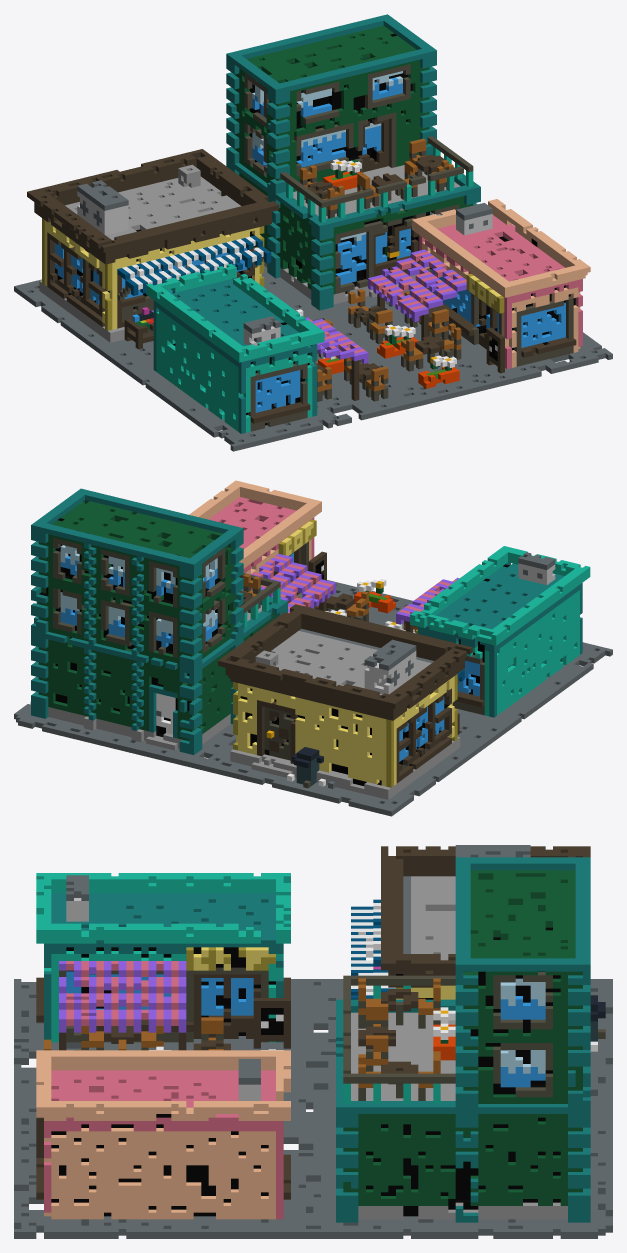
Rendered from building_small_7_damaged.obj.
The picture shows the model from 3 angles, top to bottom: view 1: azimuth 30°, elevation 25°; view 2: azimuth 150°, elevation 25°; view 3: azimuth 270°, elevation 25°; orthographic projection. The views are drawn at different scales.
Bounding box in the file's own units: 8 × 3.9 × 8.
1 material, 1 textured.
